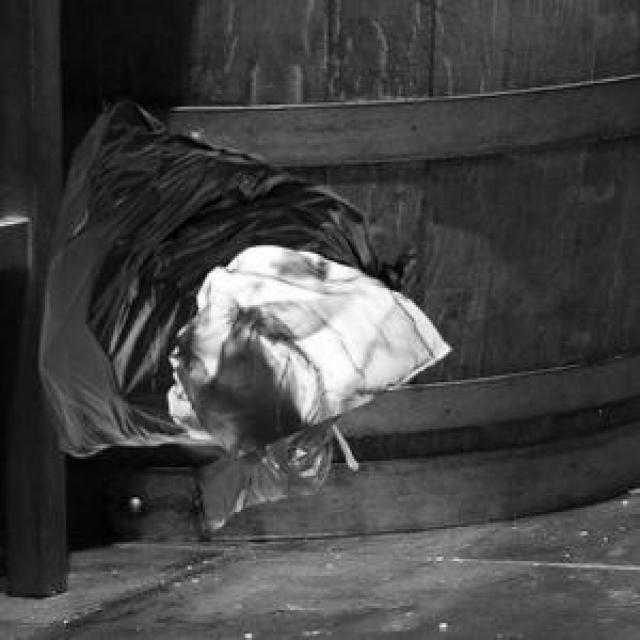miscellaneous trash: (36, 94, 414, 452), (176, 420, 354, 529)
